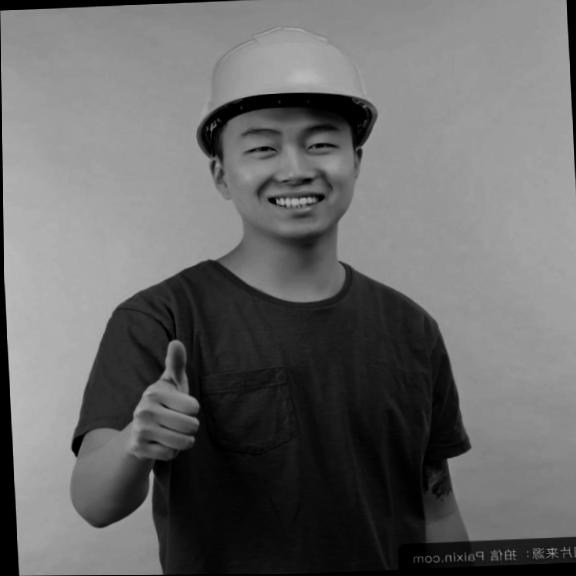no_safety_vest: (72, 239, 467, 575)
